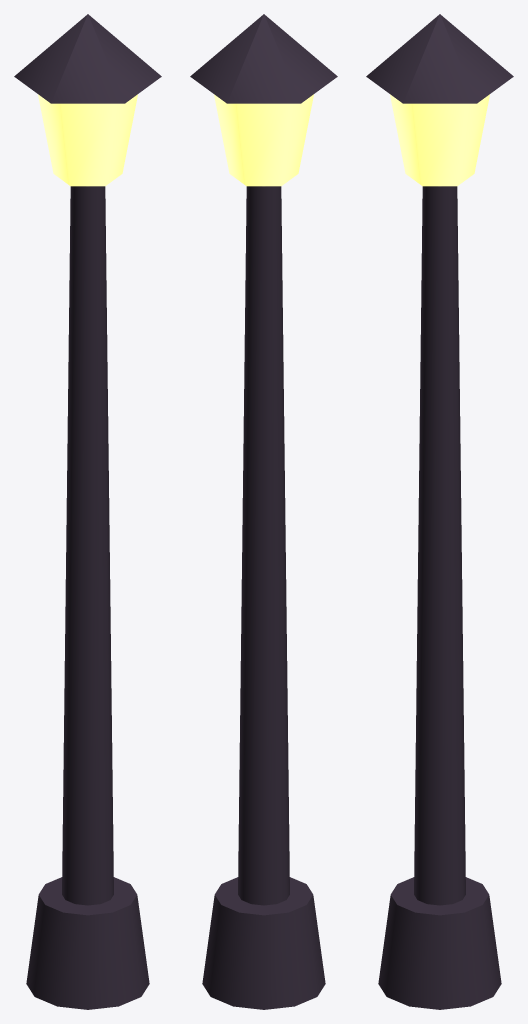
File: poste.glb
The picture shows the model from 3 angles, left to right: view 1: azimuth 30°, elevation 25°; view 2: azimuth 150°, elevation 25°; view 3: azimuth 270°, elevation 25°; orthographic projection.
Size of the model in its own units: 0.5196 by 4.34 by 0.6.
